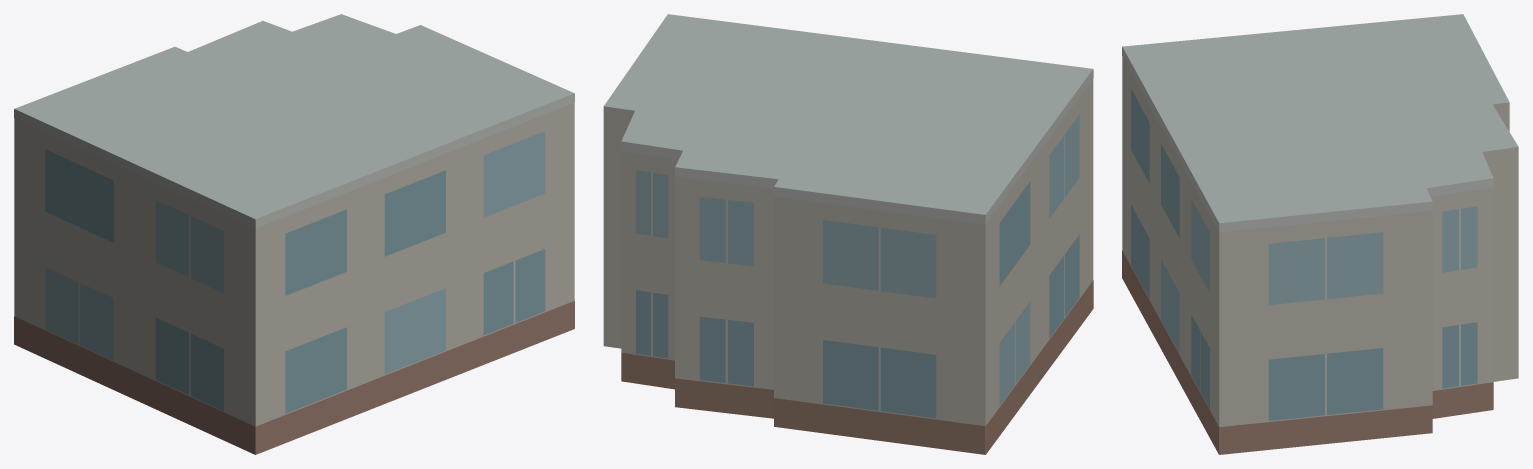
The model's file is survey-upis-32689002.glb.
3 views of the same model, side by side, from view 1: azimuth 30°, elevation 25°; view 2: azimuth 150°, elevation 25°; view 3: azimuth 270°, elevation 25° (orthographic). The views are drawn at different scales.
Visible parts, largest first — view 1: survey-upis-32689002.tmp; view 2: survey-upis-32689002.tmp; view 3: survey-upis-32689002.tmp.
Part boxes in pixels (x1,y1,x2,y2): survey-upis-32689002.tmp: (14,14,574,454); survey-upis-32689002.tmp: (603,14,1093,454); survey-upis-32689002.tmp: (1122,14,1518,454).
Size of the model in its own units: 11.83 by 6.1 by 9.47.
